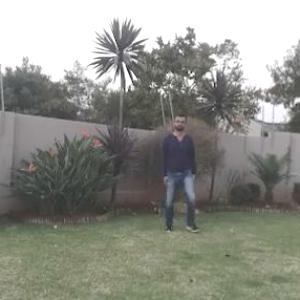follow: (160, 107, 196, 232)
